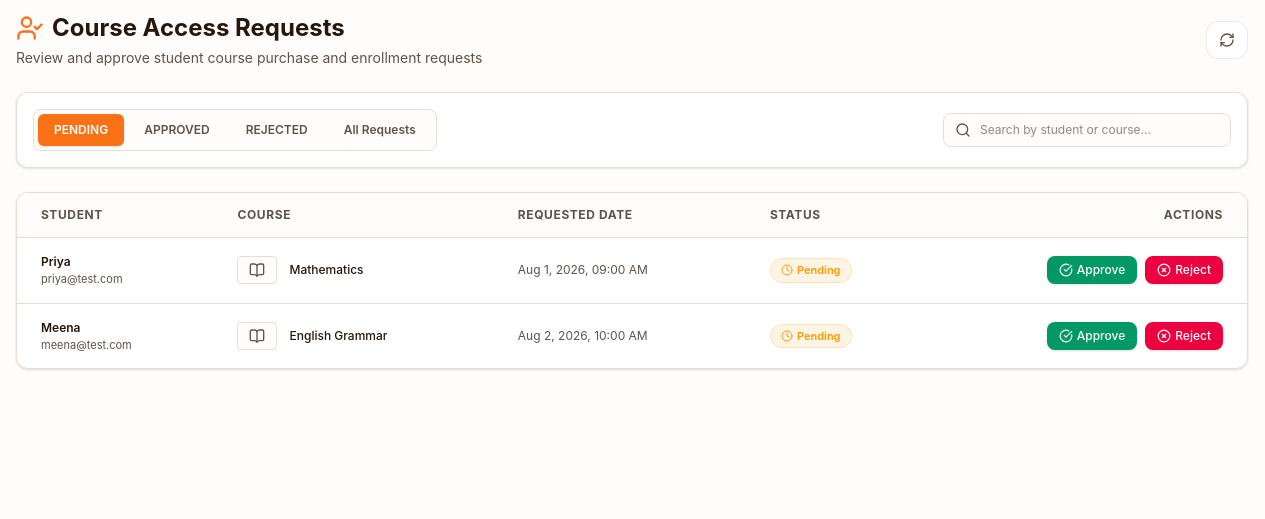
Test case: CourseRequestsPage › filters requests by search term
Click the button "All Requests" at (380,130), box left=328, top=114, right=432, bottom=146
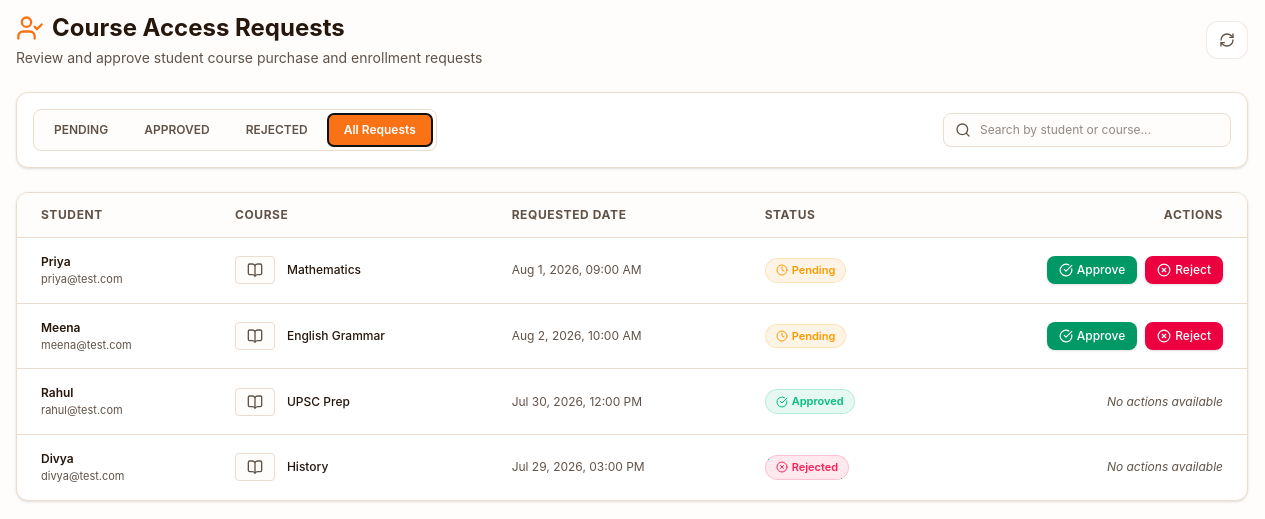
Type "priya" into the field with placeholder "Search by student or course..." at (1087,130), box left=943, top=113, right=1231, bottom=147
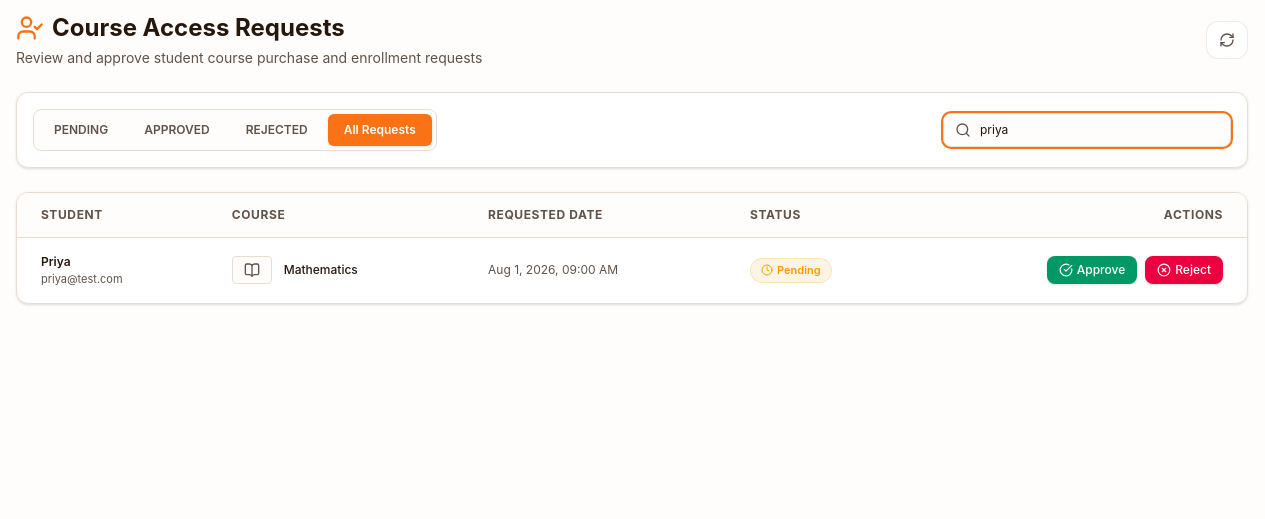
Expected: the text "Priya" is shown, left=41, top=254, right=71, bottom=269
Expected: the text "Meena" is gone
Expected: the text "Rahul" is gone
